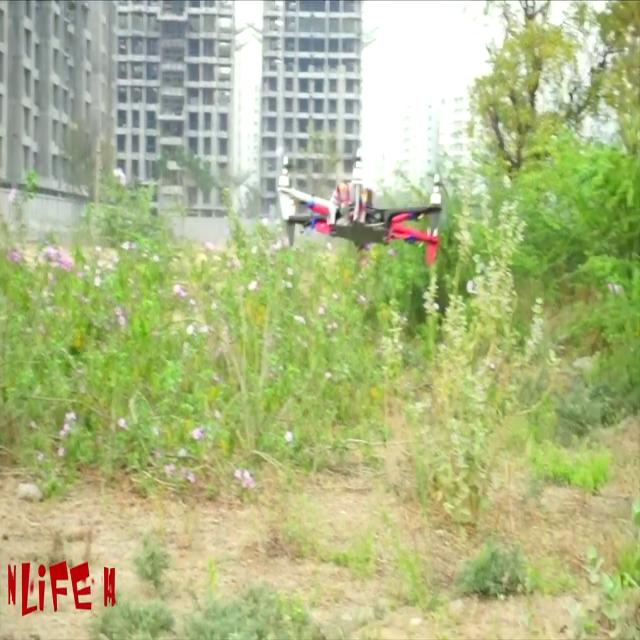drone: (237, 149, 481, 310)
